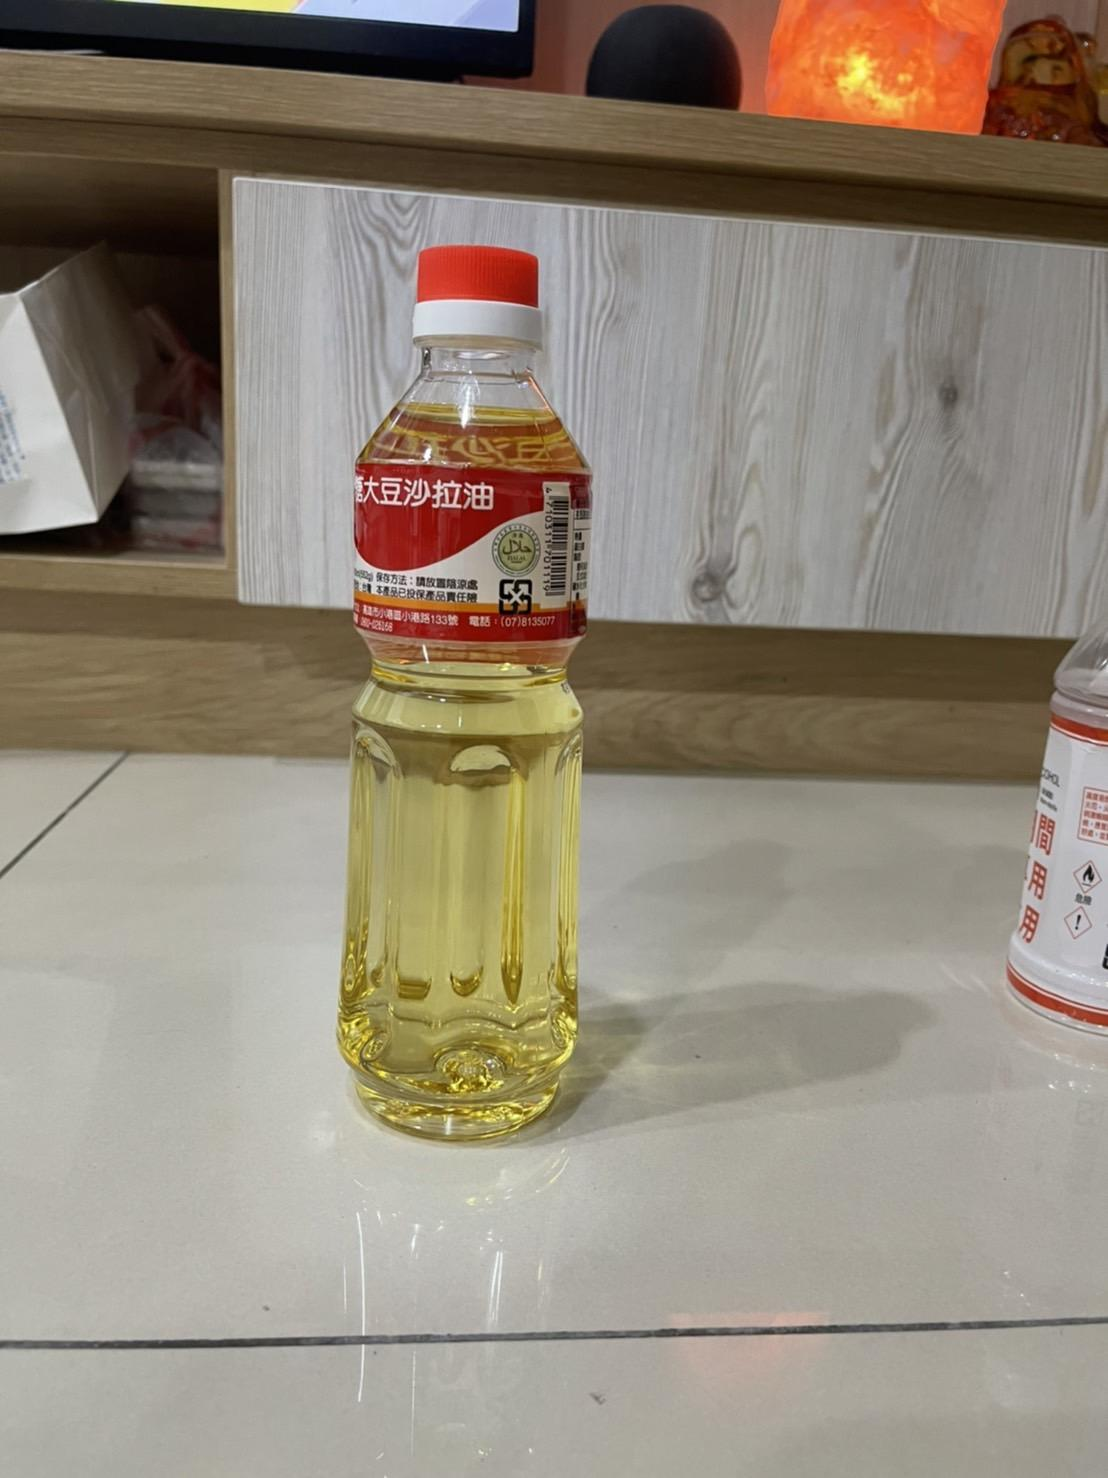bottle: (318, 223, 613, 1164)
